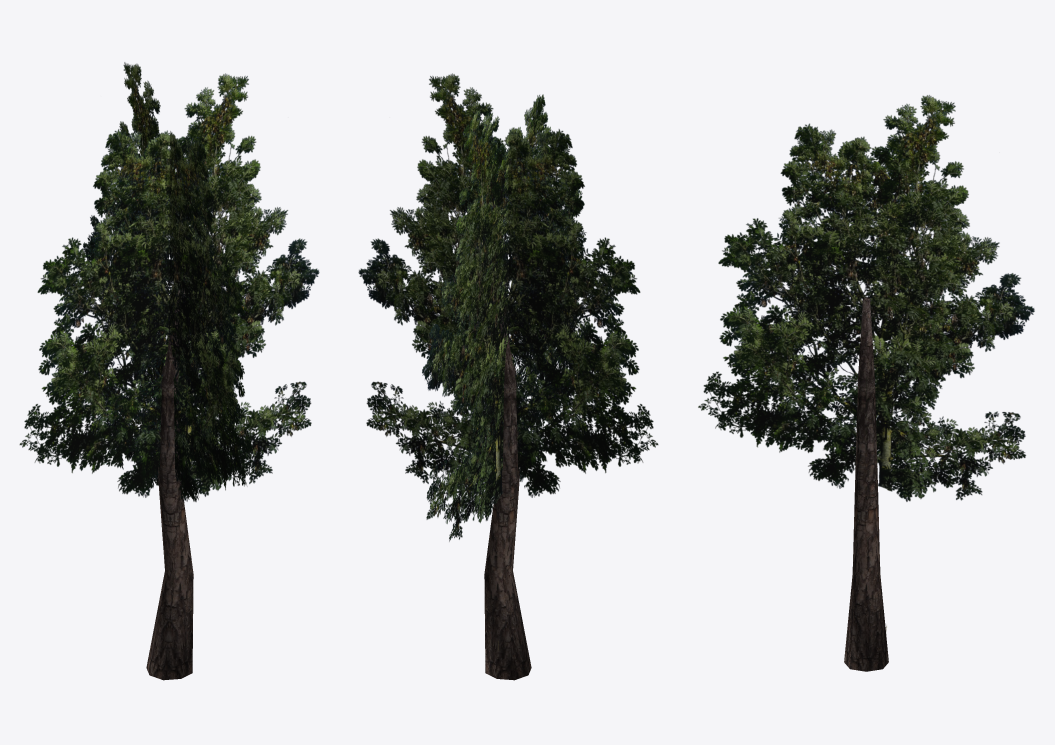
Rendered from tree1.glb.
3 views of the same model, side by side, from view 1: azimuth 30°, elevation 25°; view 2: azimuth 150°, elevation 25°; view 3: azimuth 270°, elevation 25° (orthographic). The views are drawn at different scales.
Parts seen in each view (by area): view 1: tree1; view 2: tree1; view 3: tree1.
Boxes of the visible parts, bbox=[...] form: tree1: bbox=[19, 62, 319, 680]; tree1: bbox=[358, 73, 658, 680]; tree1: bbox=[698, 95, 1034, 671].
Size of the model in its own units: 0.554 by 1.01 by 0.554.
2 materials, 2 textured.
